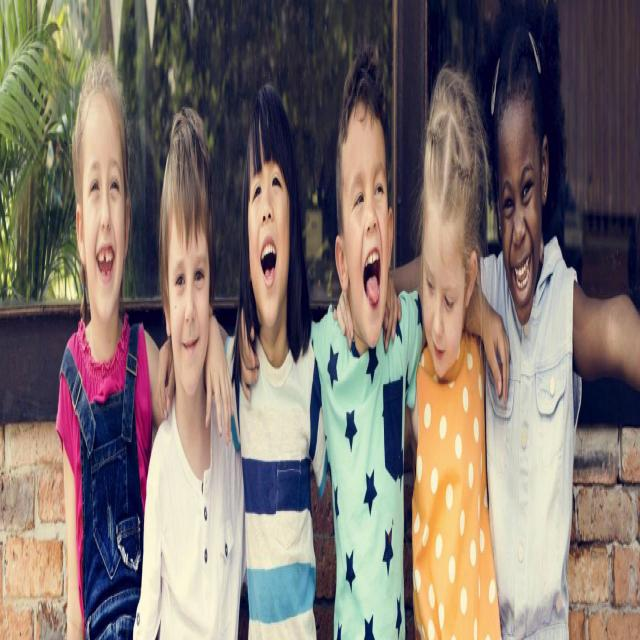child: (479, 24, 640, 640), (53, 46, 164, 640), (311, 46, 421, 640), (212, 86, 327, 640), (129, 104, 244, 640), (412, 70, 490, 640)
